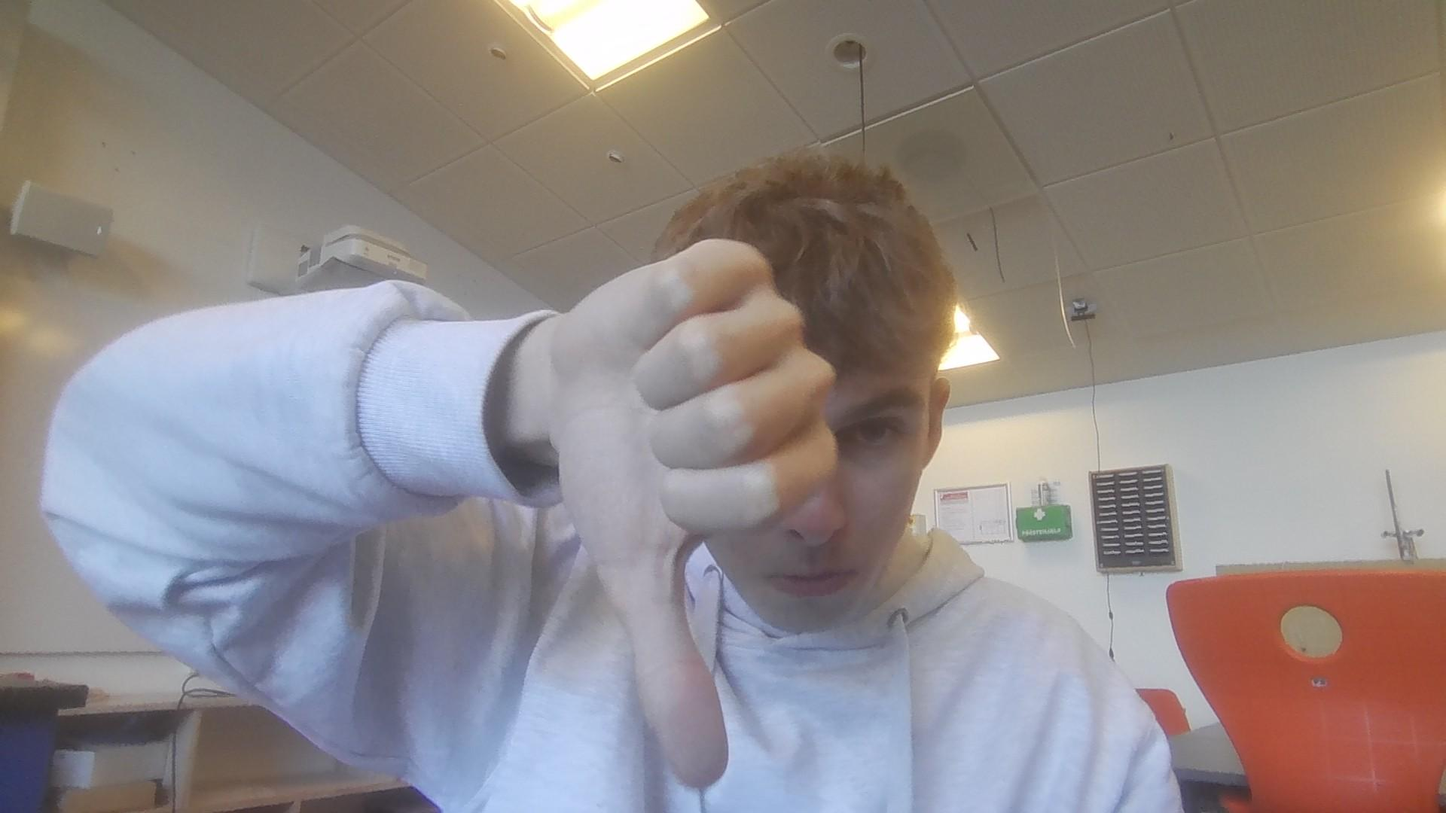thumbs down: (566, 232, 840, 795)
